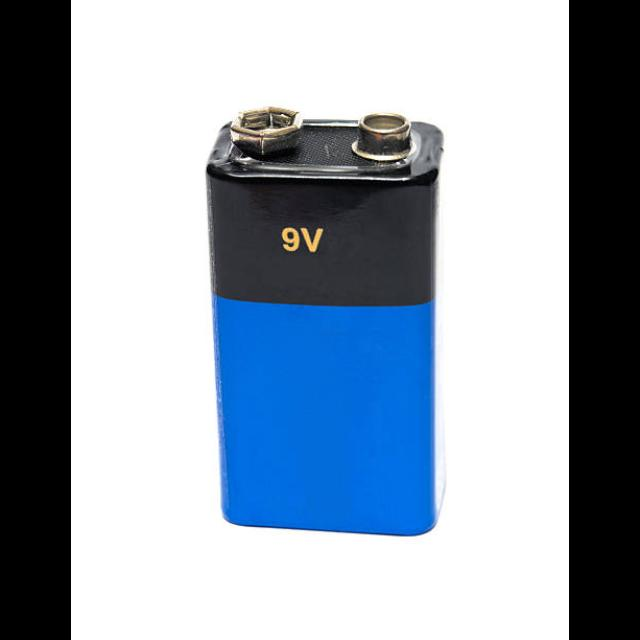Battery: (205, 108, 444, 539)
